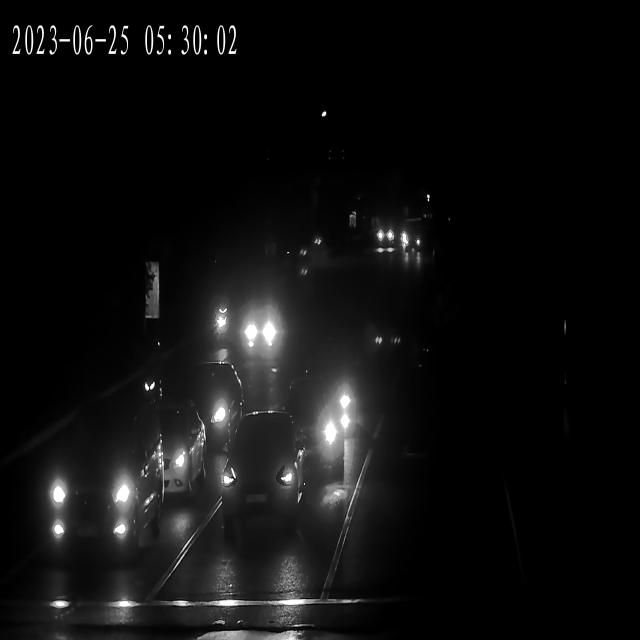Car: (45, 410, 161, 560), (223, 417, 299, 538), (135, 392, 211, 498), (282, 392, 342, 491), (309, 354, 359, 454), (181, 368, 243, 446), (245, 297, 281, 360), (374, 212, 396, 251), (401, 222, 423, 260)
